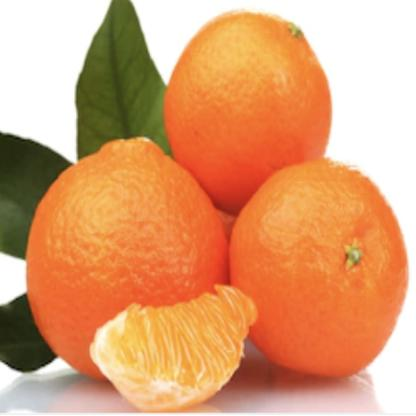fresh: (25, 14, 407, 410)
